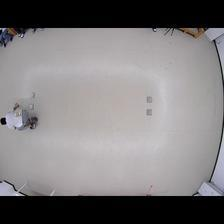fall: (1, 101, 39, 134)
